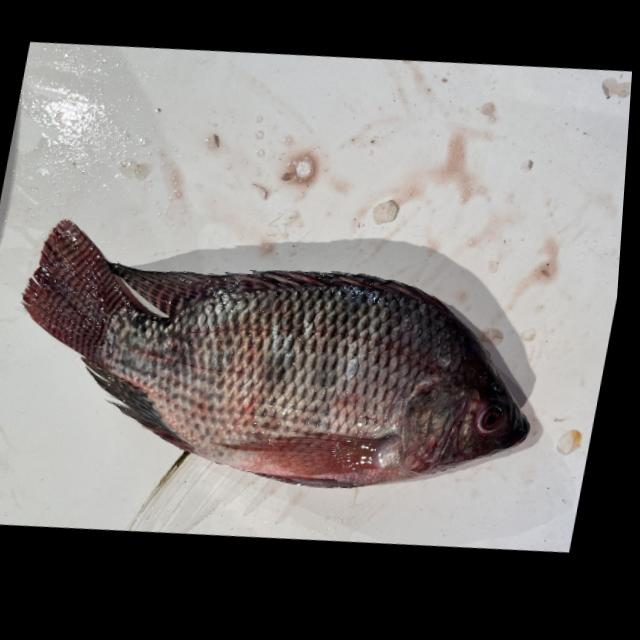Tilapia: (0, 178, 566, 536)
